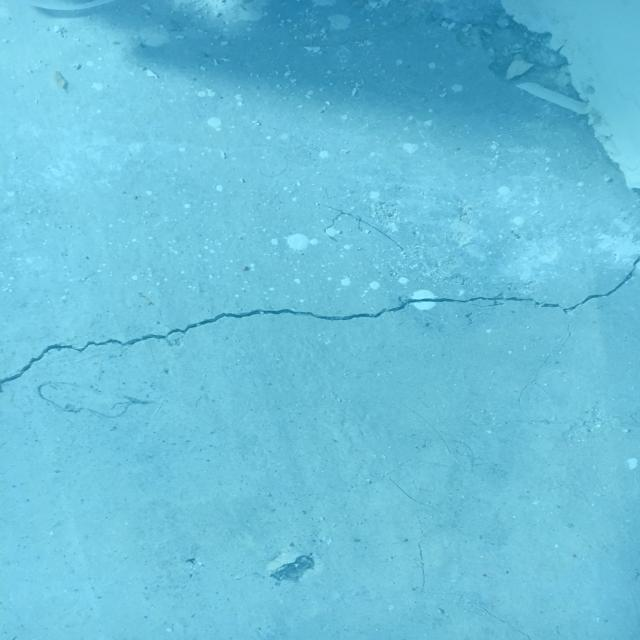crack: (0, 255, 640, 392), (518, 314, 574, 402)
